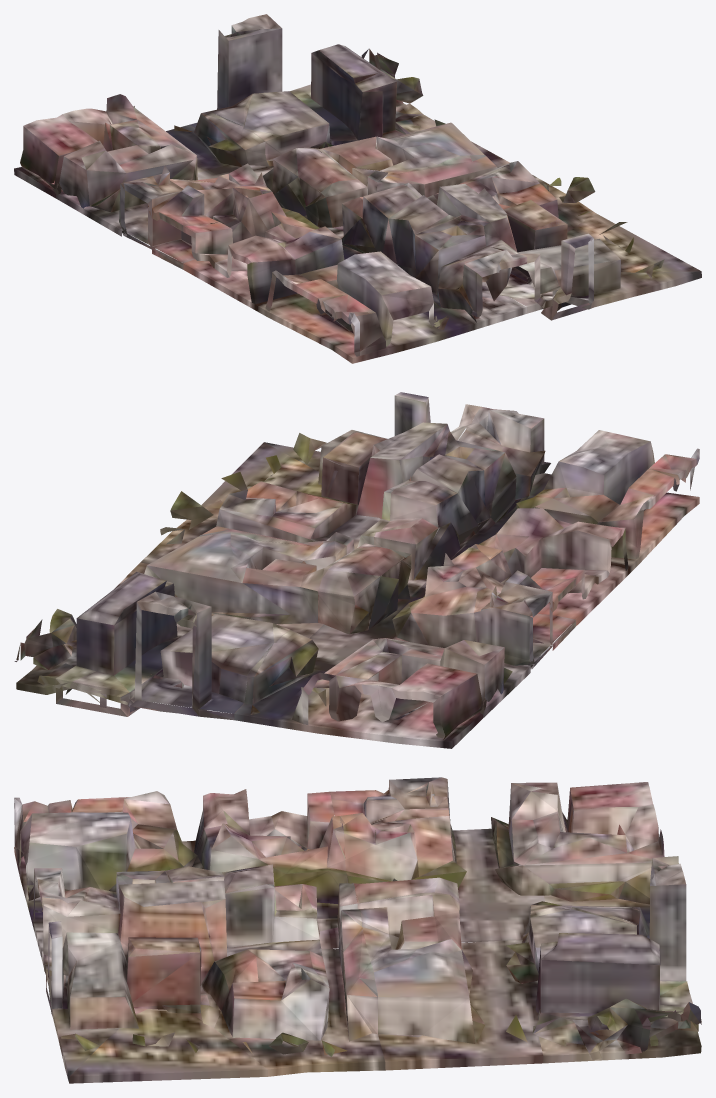
The picture shows the model from 3 angles, top to bottom: view 1: azimuth 30°, elevation 25°; view 2: azimuth 150°, elevation 25°; view 3: azimuth 270°, elevation 25°; orthographic projection. The views are drawn at different scales.
Parts seen in each view (by area): view 1: Mesh_0; view 2: Mesh_0; view 3: Mesh_0.
Boxes of the visible parts, x1,y1,x2,y2 form: Mesh_0: [14, 14, 701, 363]; Mesh_0: [14, 392, 699, 748]; Mesh_0: [14, 777, 701, 1083].
Size of the model in its own units: 266 by 64.38 by 330.
1 material, 1 textured.
